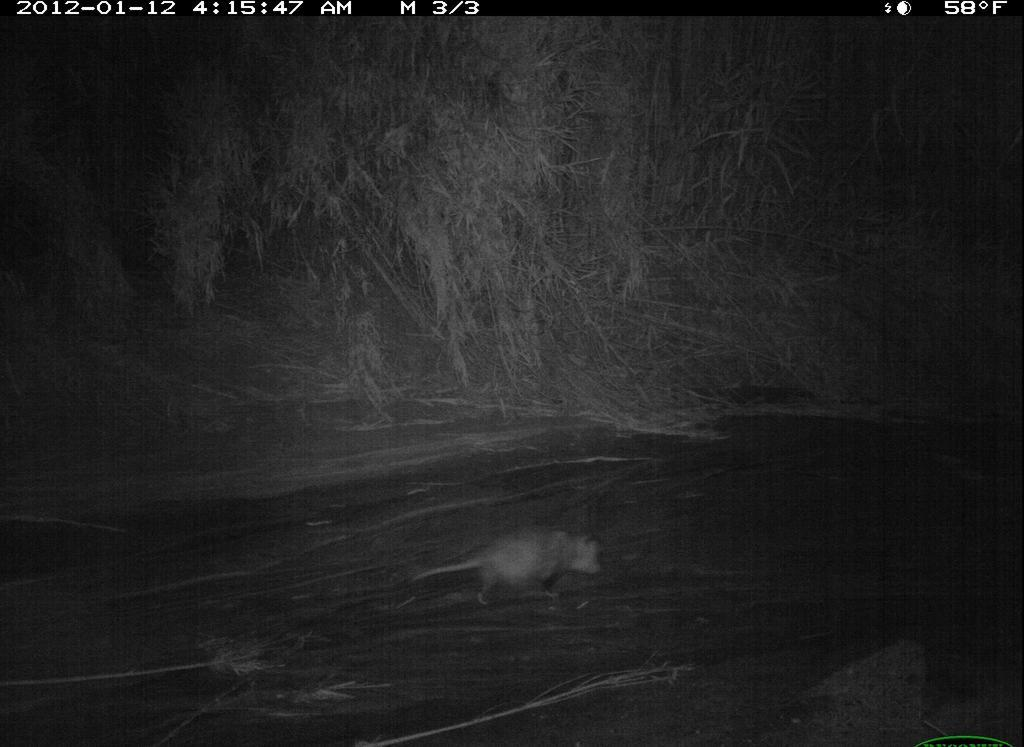opossum: (400, 516, 612, 618)
